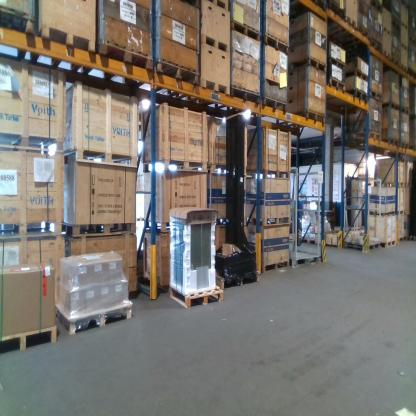pallet: (56, 301, 133, 334), (96, 38, 153, 71), (0, 323, 58, 354), (38, 26, 96, 53), (0, 131, 65, 154), (64, 149, 138, 168), (61, 220, 137, 238), (0, 219, 64, 240), (154, 60, 200, 88), (142, 156, 208, 175), (0, 4, 38, 36), (169, 286, 224, 308), (214, 268, 259, 289), (289, 107, 325, 129), (197, 31, 231, 54), (287, 55, 328, 74), (230, 18, 262, 42), (230, 85, 261, 107), (265, 31, 292, 53), (246, 167, 291, 180), (244, 216, 291, 228), (260, 94, 288, 114), (201, 78, 230, 97), (261, 259, 290, 275), (346, 130, 382, 142), (346, 87, 369, 104), (142, 219, 172, 232), (343, 240, 381, 250), (326, 78, 348, 95), (201, 0, 229, 13), (328, 2, 348, 20), (343, 67, 367, 81), (356, 23, 372, 41), (327, 56, 347, 70), (368, 37, 383, 55), (382, 101, 401, 114), (208, 163, 227, 175), (344, 15, 358, 30), (369, 89, 381, 103), (371, 0, 383, 14), (381, 47, 392, 62), (391, 18, 402, 33), (391, 54, 401, 69), (296, 238, 316, 245), (383, 137, 400, 145), (381, 240, 396, 249), (399, 41, 409, 53), (382, 24, 391, 36), (408, 34, 416, 47), (400, 21, 409, 32), (394, 179, 403, 189), (401, 62, 408, 74), (401, 108, 410, 117), (408, 68, 416, 78), (401, 142, 410, 150), (395, 208, 404, 216), (365, 211, 395, 213), (397, 236, 404, 243)
